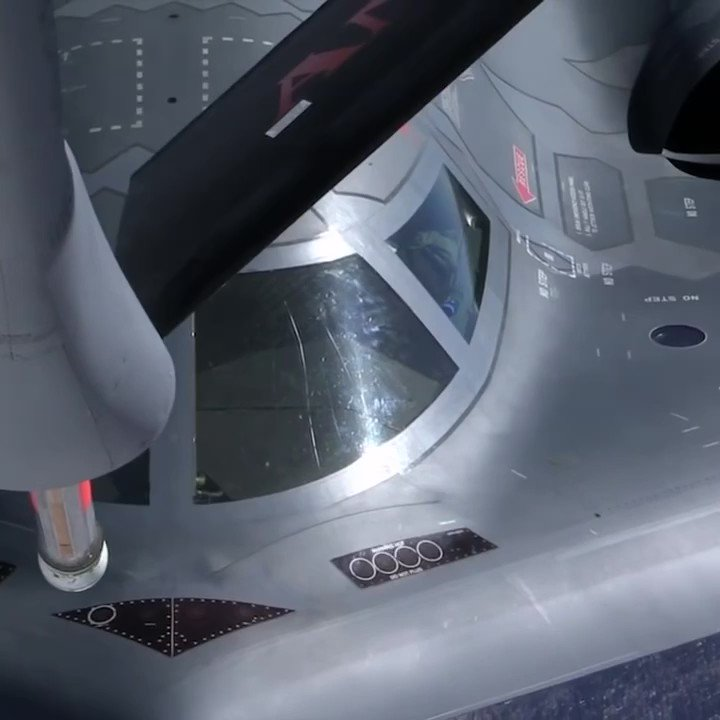B2: (1, 1, 720, 720)
